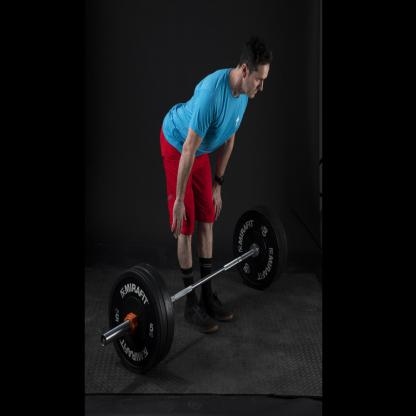Barbell: (98, 256, 183, 377)
